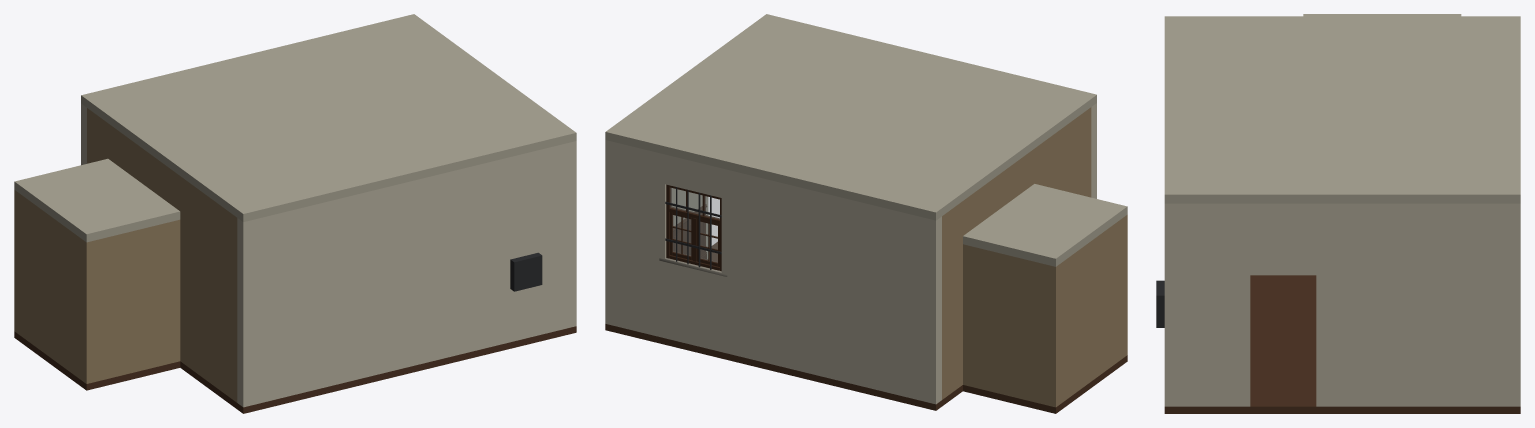
File: room_lab7.glb
The picture shows the model from 3 angles, left to right: view 1: azimuth 30°, elevation 25°; view 2: azimuth 150°, elevation 25°; view 3: azimuth 270°, elevation 25°; orthographic projection. The views are drawn at different scales.
Visible parts, largest first — view 1: room_walls, room_ceiling, room_floor, room_metal; view 2: room_walls, room_ceiling, room_floor, room_woodwork, window_glass, room_metal; view 3: room_ceiling, room_walls, room_floor, room_metal.
Part boxes in pixels (x1,y1,x2,y2): room_walls: [14, 103, 576, 407]; room_ceiling: [14, 14, 576, 242]; room_floor: [14, 326, 576, 413]; room_metal: [510, 252, 542, 291]; room_walls: [605, 103, 1127, 407]; room_ceiling: [605, 14, 1127, 266]; room_floor: [605, 242, 1127, 413]; room_woodwork: [666, 184, 721, 271]; window_glass: [670, 188, 719, 262]; room_metal: [665, 187, 721, 269]; room_ceiling: [1164, 14, 1520, 203]; room_walls: [1164, 203, 1520, 406]; room_floor: [1164, 275, 1520, 413]; room_metal: [1156, 280, 1164, 327].
Bounding box in the file's own units: 8.2 × 3.67 × 5.53.
